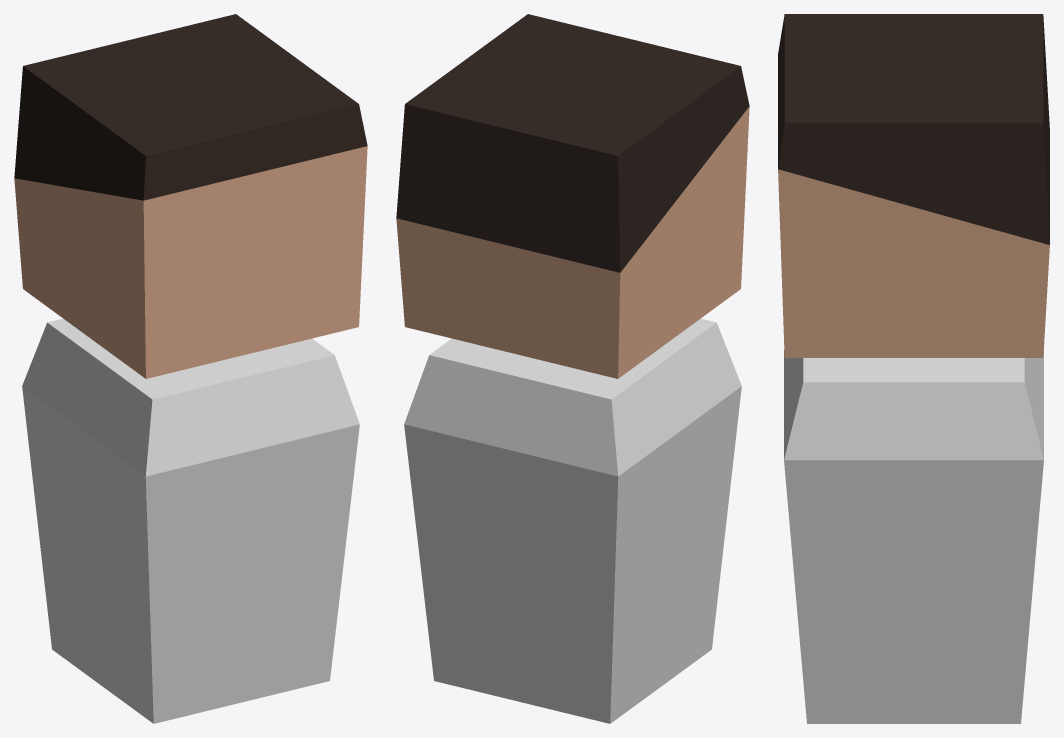
The model's file is soldier.fbx.
3 views of the same model, side by side, from view 1: azimuth 30°, elevation 25°; view 2: azimuth 150°, elevation 25°; view 3: azimuth 270°, elevation 25° (orthographic). The views are drawn at different scales.
Parts seen in each view (by area): view 1: Cube; view 2: Cube; view 3: Cube.
Part boxes in pixels (box(x1,y1,x2,y2)): Cube: box(14, 14, 367, 723); Cube: box(396, 14, 749, 723); Cube: box(778, 14, 1049, 723).
Bounding box in the file's own units: 254 × 629 × 254.
